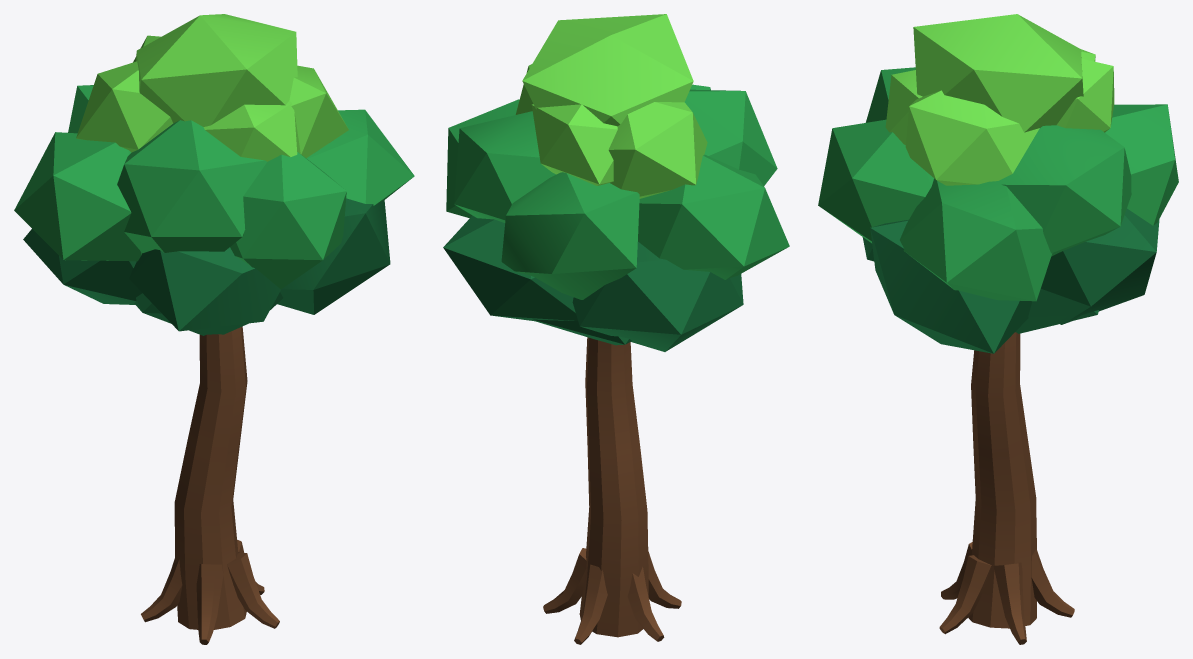
The model's file is arbol_parque.glb.
3 renders of one model, left to right at view 1: azimuth 30°, elevation 25°; view 2: azimuth 150°, elevation 25°; view 3: azimuth 270°, elevation 25°, orthographic.
Parts seen in each view (by area): view 1: Arbol_Parque; view 2: Arbol_Parque; view 3: Arbol_Parque.
Boxes of the visible parts, x1,y1,x2,y2 form: Arbol_Parque: (14, 14, 414, 644); Arbol_Parque: (443, 14, 789, 644); Arbol_Parque: (818, 14, 1178, 644).
Bounding box in the file's own units: 4.18 × 7.05 × 3.82.
